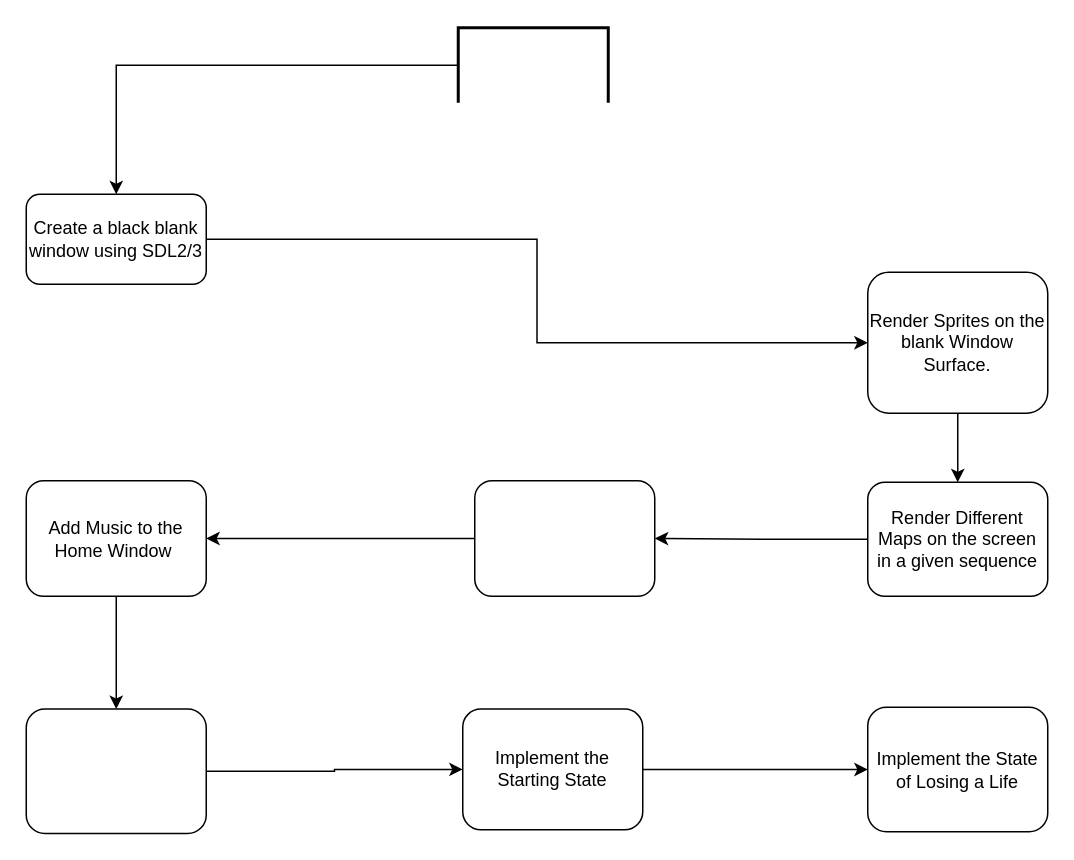
This 1074x860 diagram has some shape labels left out. The shapes that lost their labels are listed below. From the top down, each one's centre as x and y in pixels, then its label:
the point at 532,65: Install SDL2/3 and all the other requirements
the point at 564,537: Make Leaderboard Window and Home Screen
the point at 115,771: Make Buttons work and call required Windows
